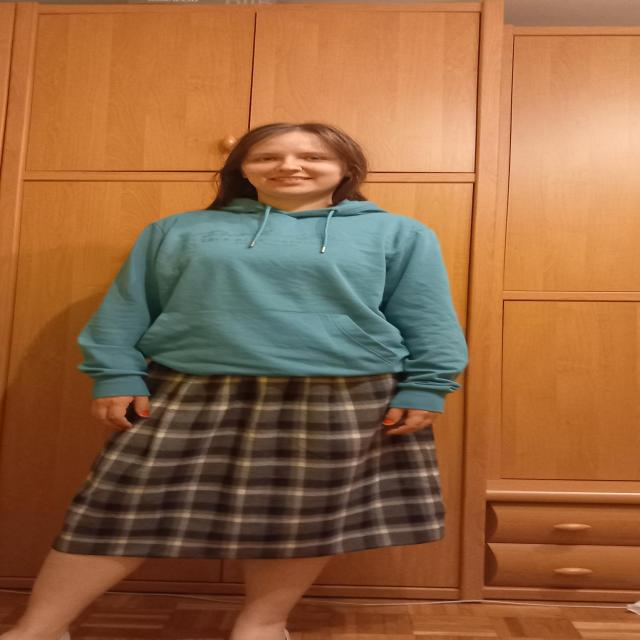skirt: (51, 361, 446, 560)
sweater: (75, 198, 469, 413)
